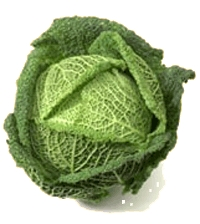cabbage: (2, 14, 196, 205)
